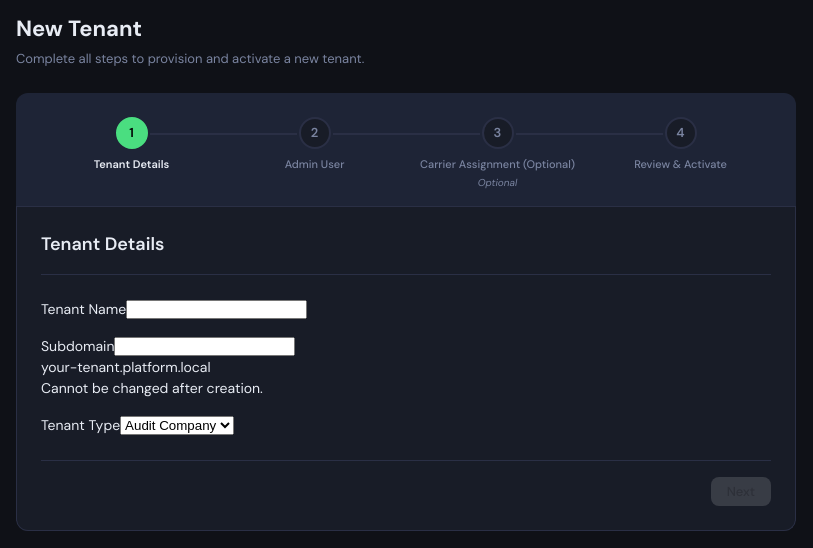
Test case: TenantCreationWizard › step 1: auto-generates slug from tenant name input
Type "Acme Corporation" into the field labelled "Tenant Name" at (217,309), box [126, 300, 307, 319]
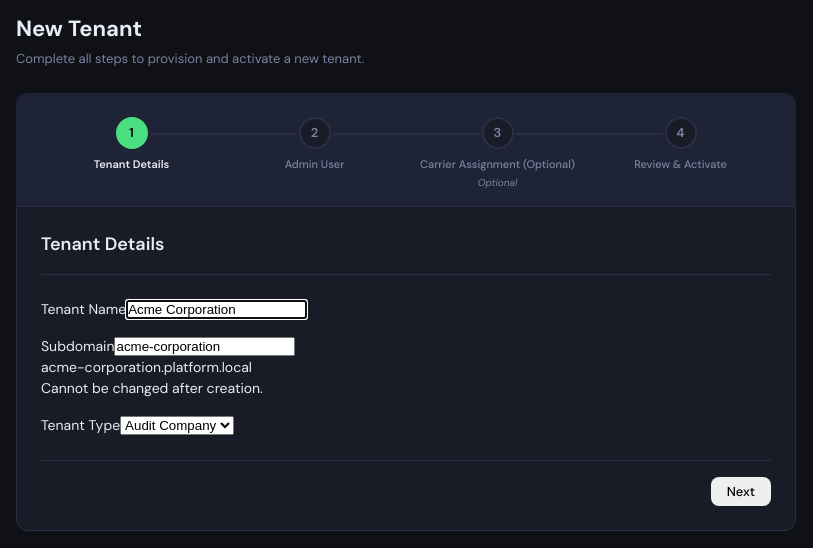
Now the field labelled "Subdomain" holds "acme-corporation", box [114, 337, 296, 356]
